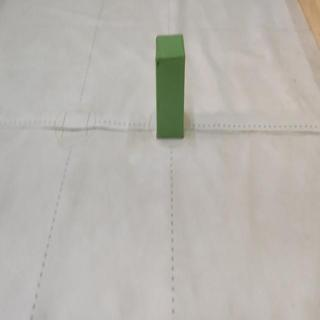greenbox: (155, 34, 185, 140)
